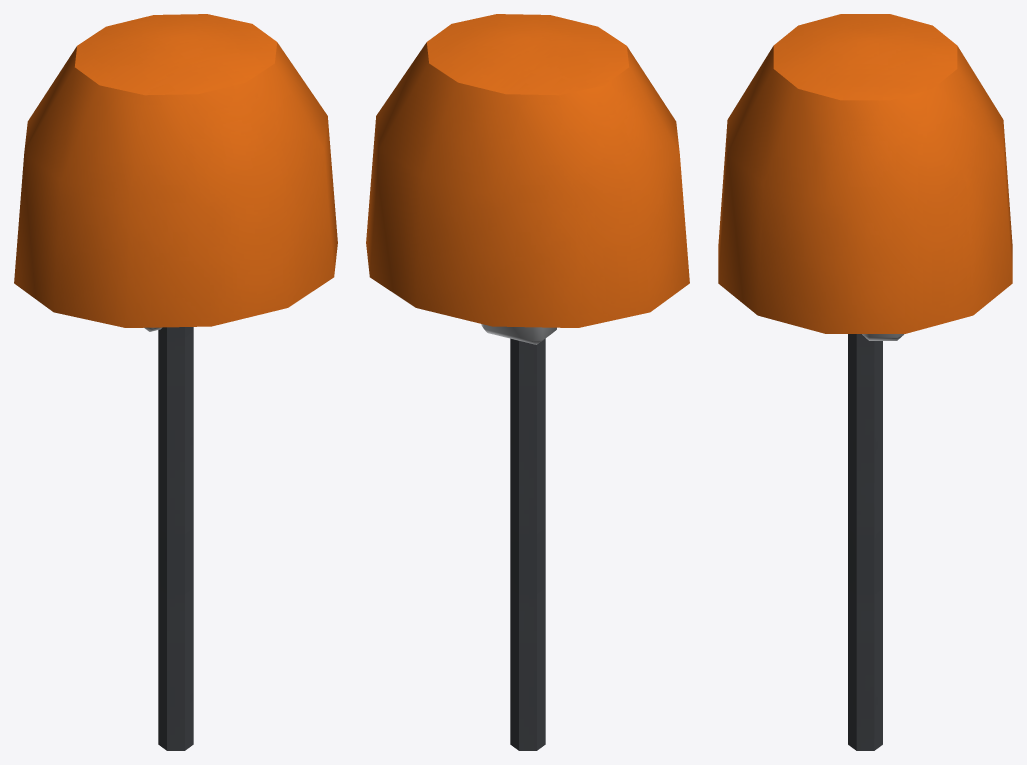
The model's file is orelhao.glb.
The picture shows the model from 3 angles, left to right: view 1: azimuth 30°, elevation 25°; view 2: azimuth 150°, elevation 25°; view 3: azimuth 270°, elevation 25°; orthographic projection.
Visible parts, largest first — view 1: Inteiro; view 2: Inteiro; view 3: Inteiro.
Boxes of the visible parts, bbox=[...] form: Inteiro: bbox=[14, 14, 337, 750]; Inteiro: bbox=[366, 14, 689, 750]; Inteiro: bbox=[718, 14, 1012, 750].
Size of the model in its own units: 0.9273 by 2.2 by 0.8346.
1 material, 1 textured.
